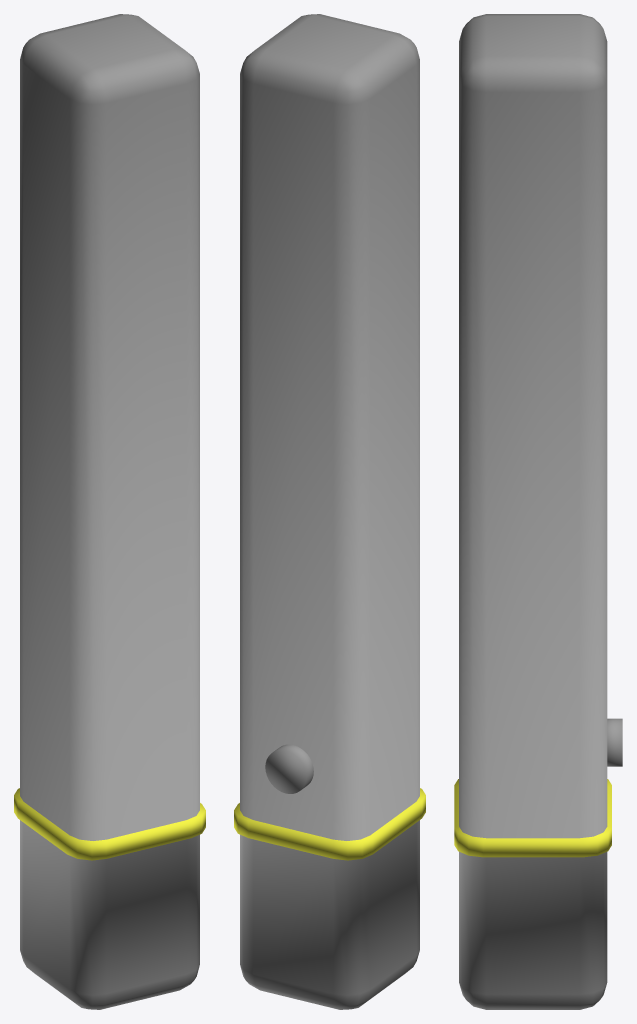
File: item-laser-pointer.glb
3 renders of one model, left to right at view 1: azimuth 30°, elevation 25°; view 2: azimuth 150°, elevation 25°; view 3: azimuth 270°, elevation 25°, orthographic.
Size of the model in its own units: 2.13 by 14.17 by 2.27.
